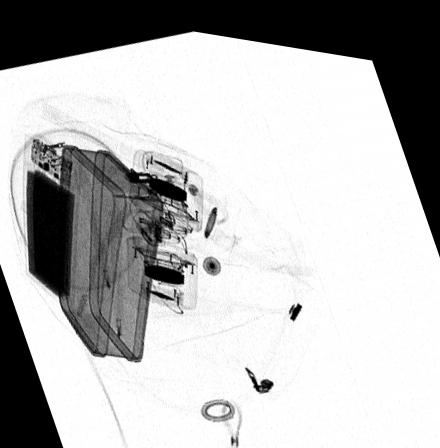Powerbank: (22, 129, 78, 304)
